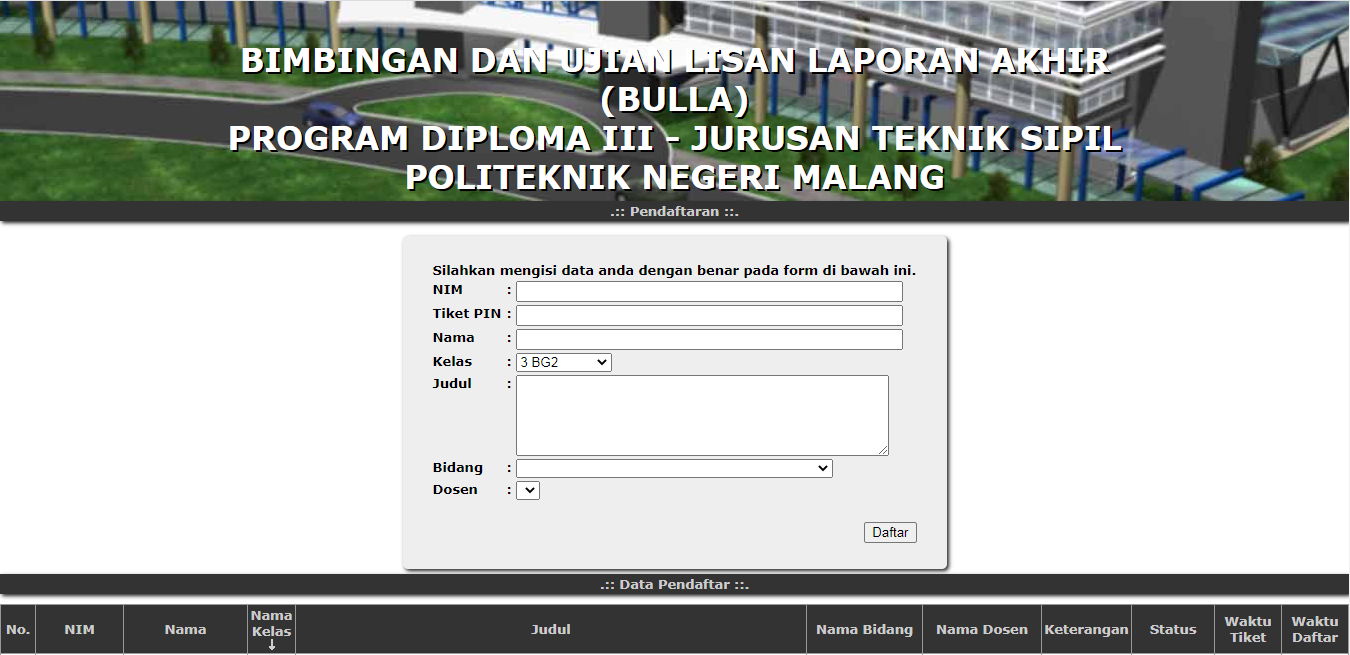Button: (859, 522, 920, 543)
Image: (2, 1, 1350, 200)
Text Field: (513, 374, 891, 461), (513, 276, 907, 305), (513, 328, 906, 350), (512, 303, 904, 325)
